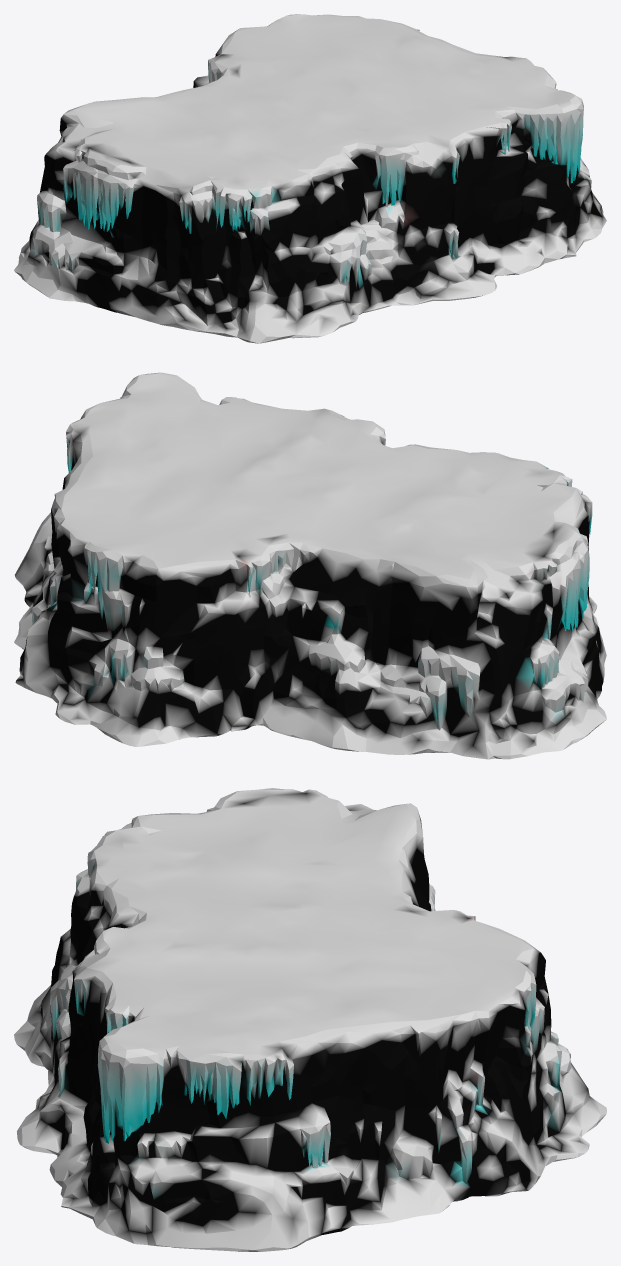
File: CliffIce2_0.fbx
The picture shows the model from 3 angles, top to bottom: view 1: azimuth 30°, elevation 25°; view 2: azimuth 150°, elevation 25°; view 3: azimuth 270°, elevation 25°; orthographic projection. The views are drawn at different scales.
Visible parts, largest first — view 1: CliffIce2_0_LOD0; view 2: CliffIce2_0_LOD0; view 3: CliffIce2_0_LOD0.
Boxes of the visible parts, <box> form: CliffIce2_0_LOD0: <box>14,14,606,343</box>; CliffIce2_0_LOD0: <box>14,372,606,759</box>; CliffIce2_0_LOD0: <box>14,788,606,1251</box>.
Size of what is drawn, in the model's own units: 1909 by 490 by 1497.
